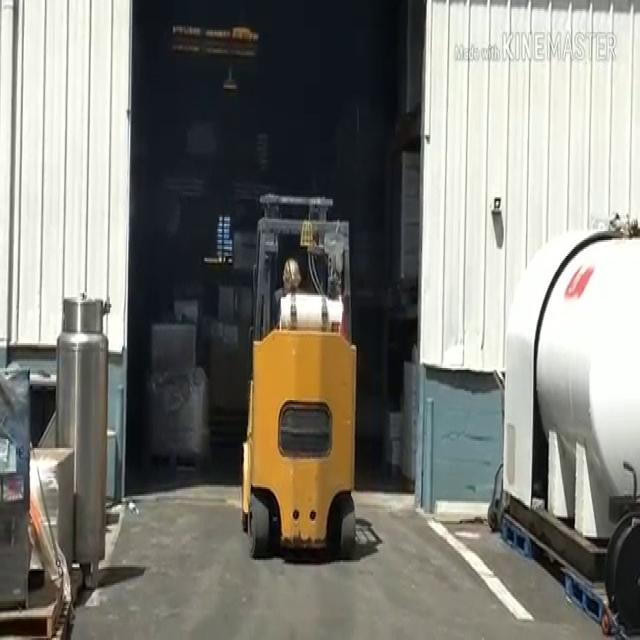Chariot elevateur: (236, 180, 366, 572)
